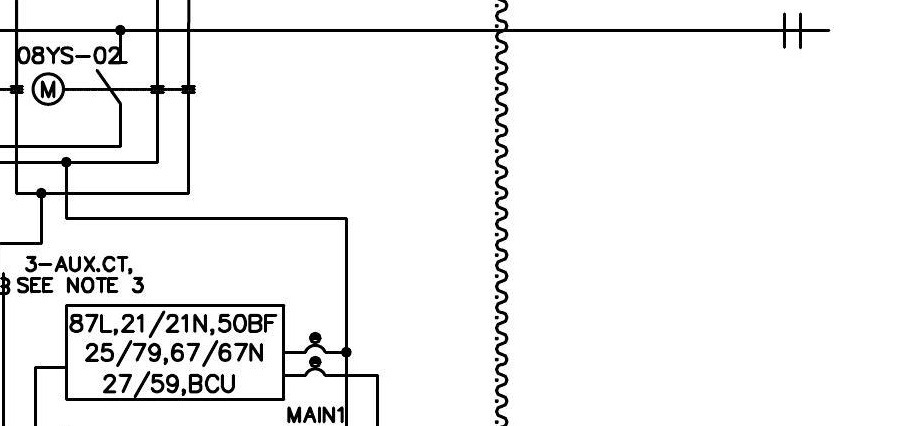115_1way_ds_w_motor: (31, 60, 129, 107)
115_buffer: (783, 12, 802, 49)
